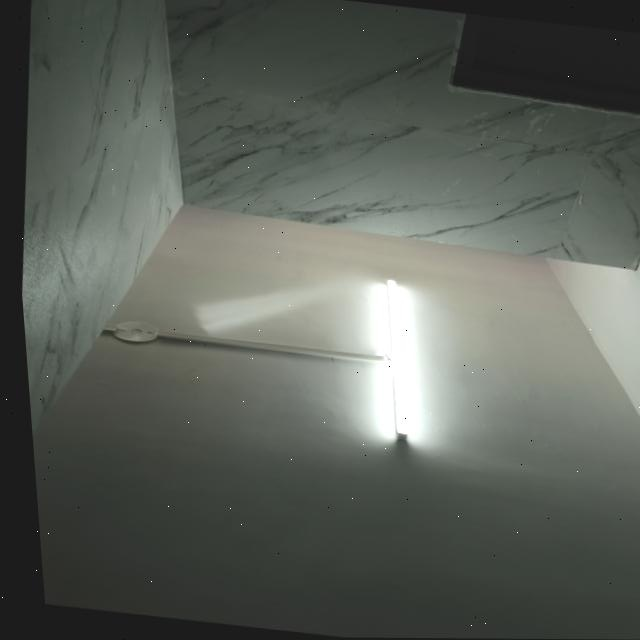fluorescent tube: (359, 274, 428, 446)
